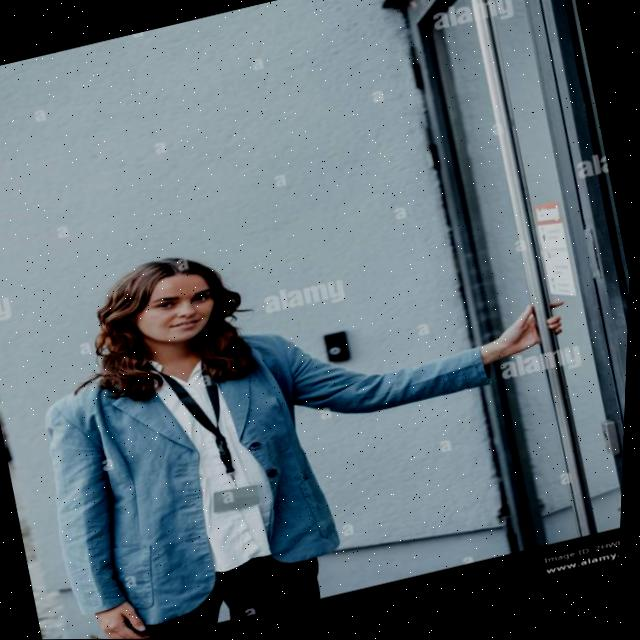id_card: (147, 336, 292, 538)
